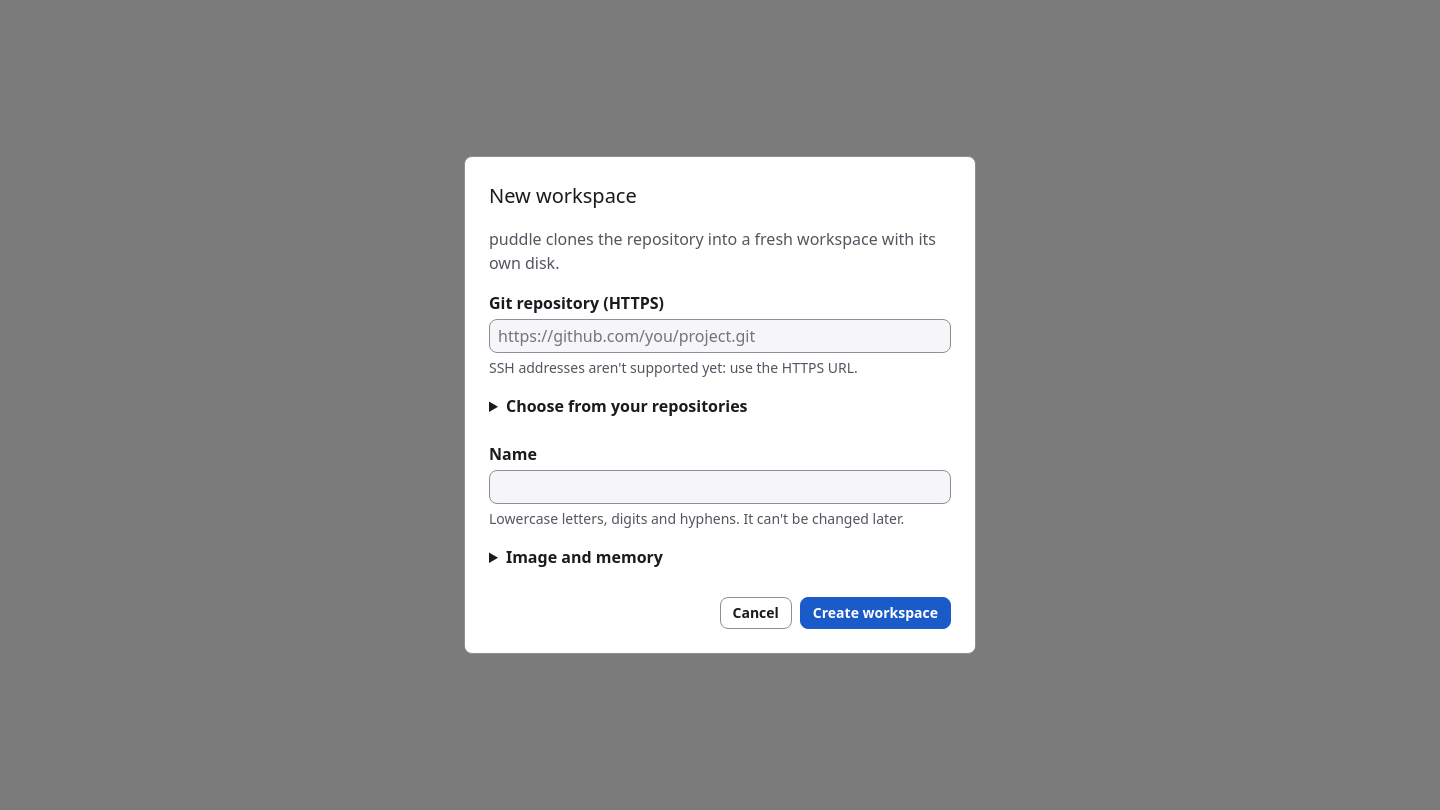
Test: CreateWorkspaceDialog › shows a refusal about name at that field
The image size is (1440, 810).
expect the dialog is shown: met, box [464, 156, 976, 654]
Type "https://github.com/acme/web.git" into the field labelled "Git repository (HTTPS)" at {"x": 720, "y": 336}, box [489, 319, 951, 353]
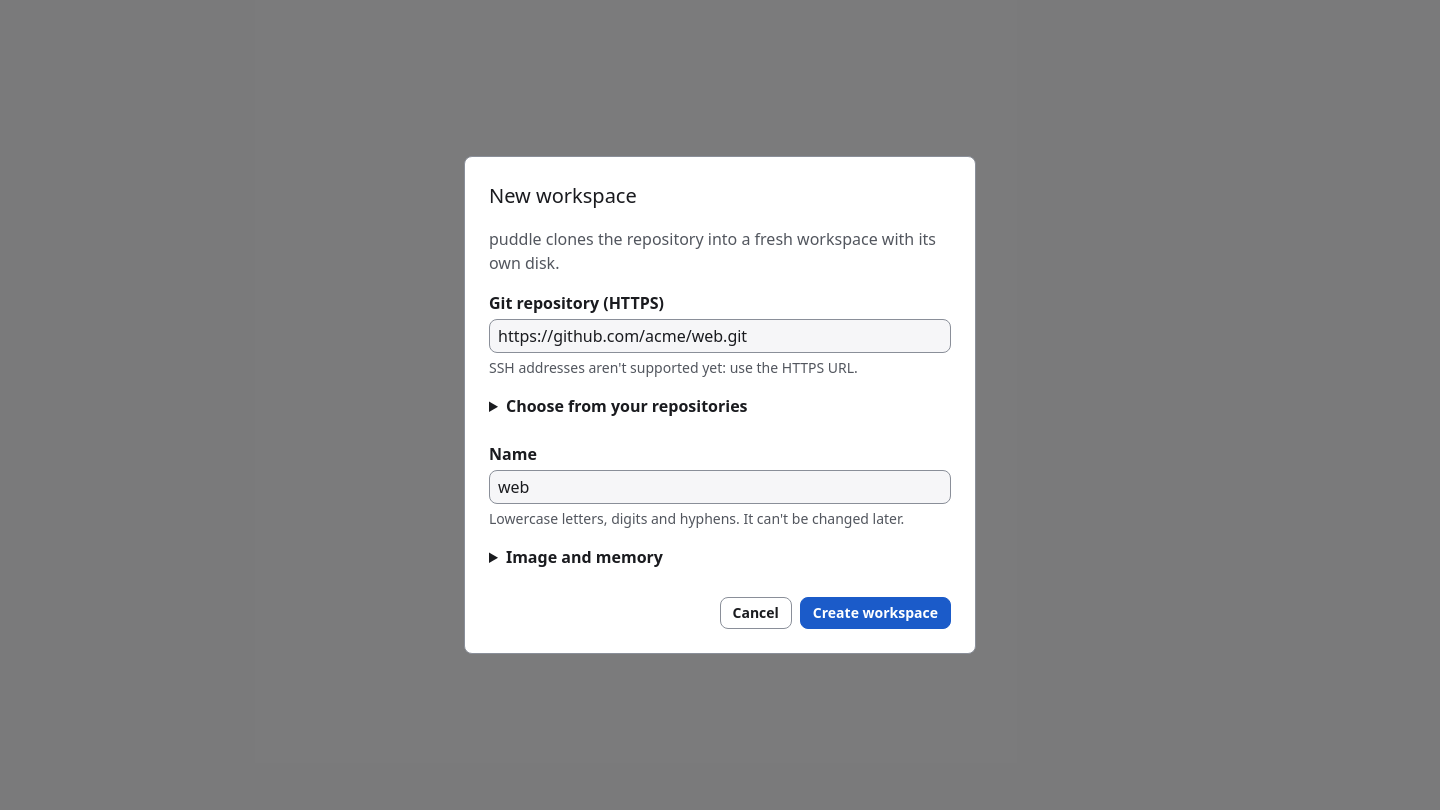
Click the heading "Image and memory" at {"x": 584, "y": 557}, box [506, 546, 663, 568]
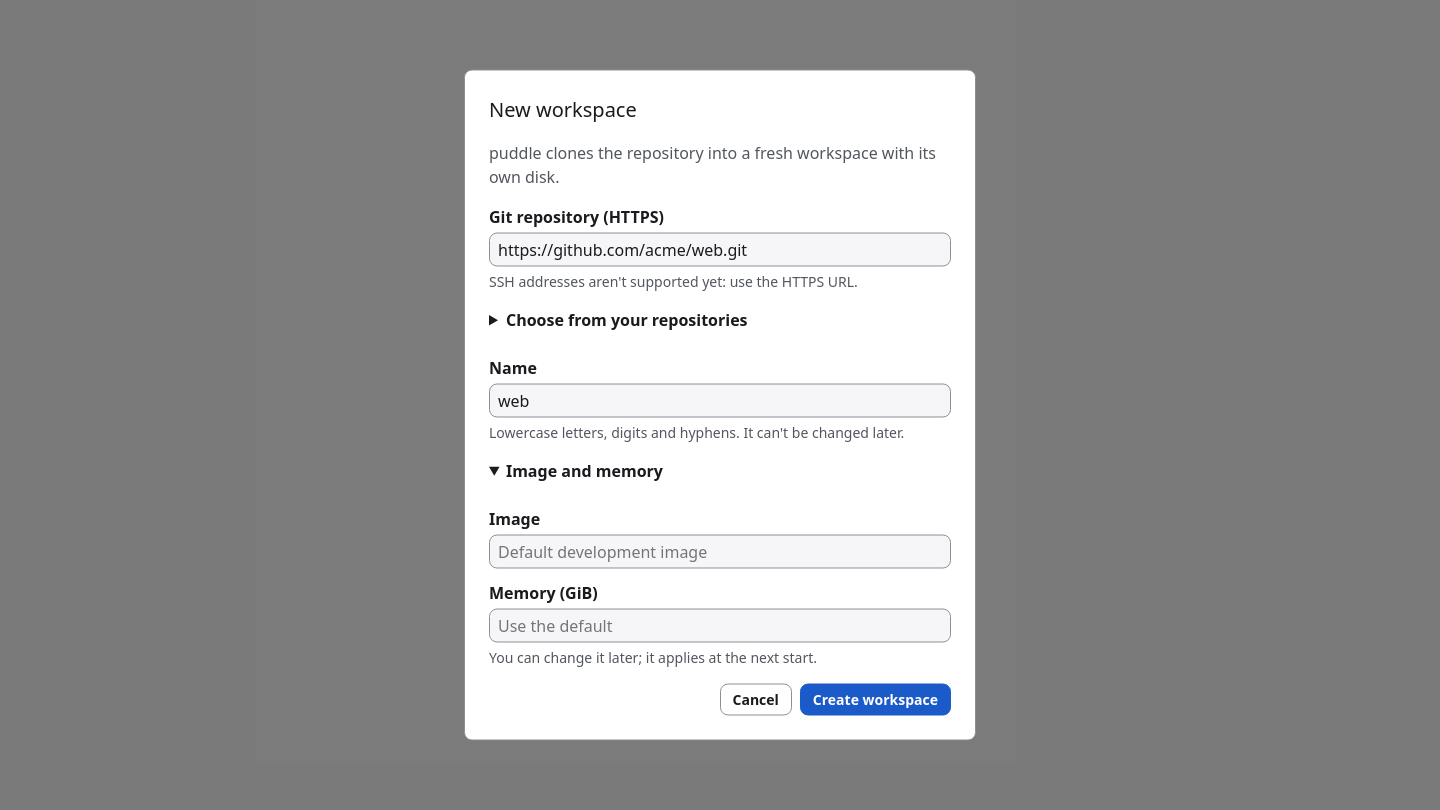
Click the button "Create workspace" at {"x": 875, "y": 700}, box [800, 684, 951, 716]
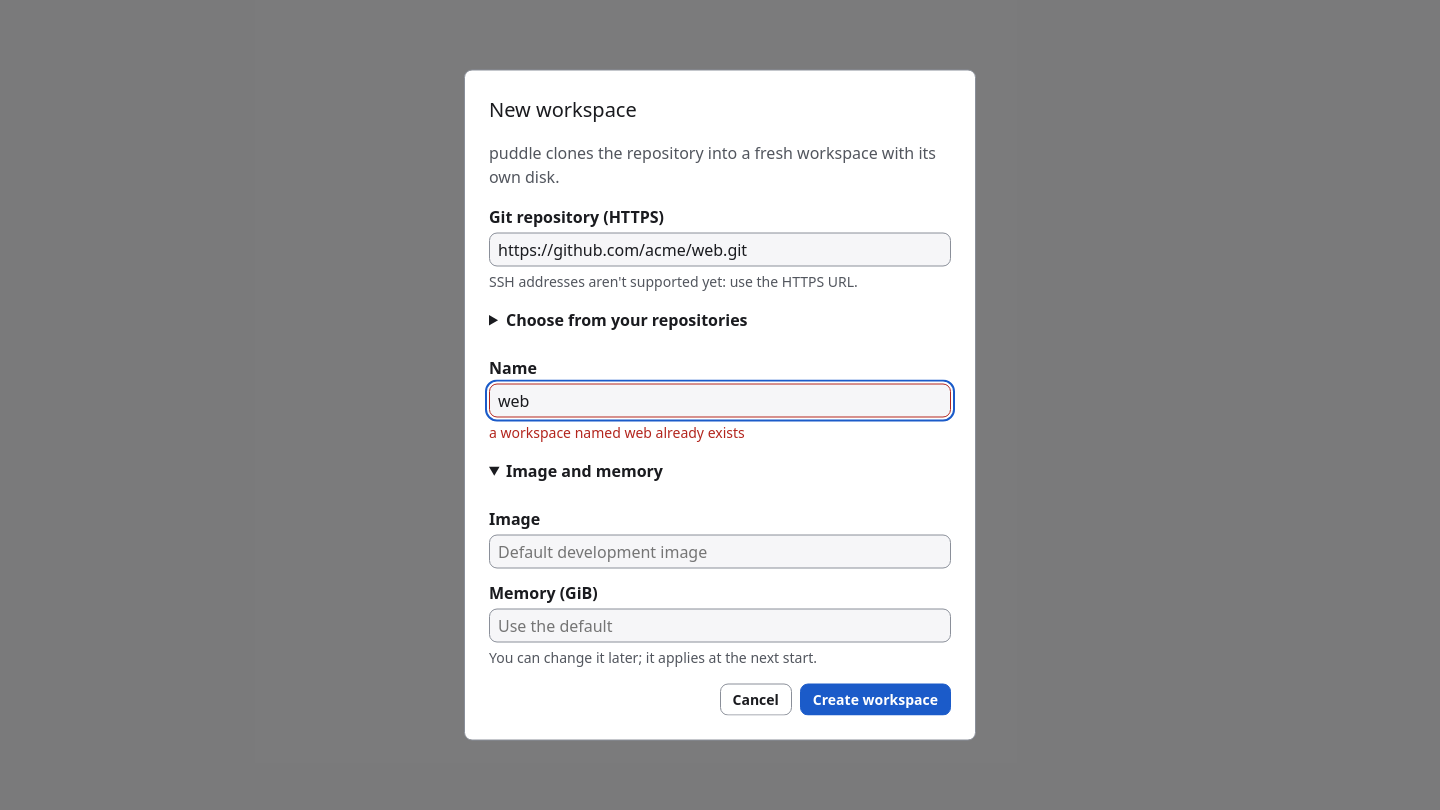
expect the dialog is shown: met, box [464, 70, 976, 740]
expect the message reads "a workspace named web already exists": met, box [489, 422, 745, 442]
